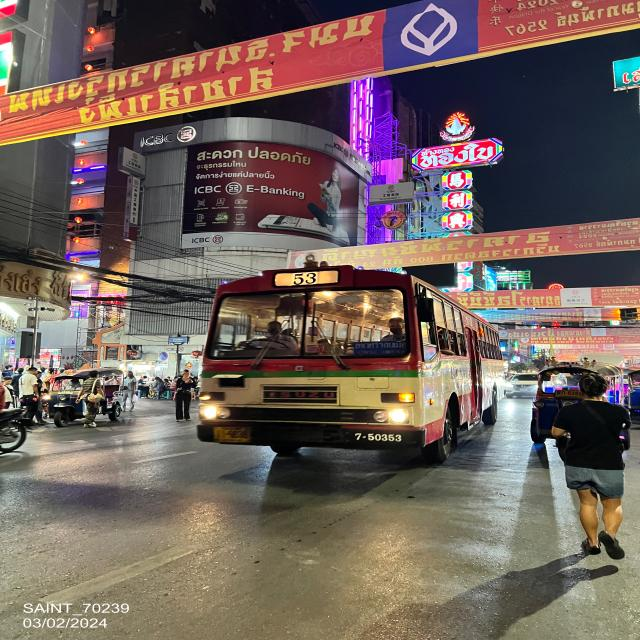BMTA-bus: (194, 267, 502, 464)
Bus Line Number: (286, 271, 323, 287)
Bus Side Number: (350, 430, 407, 442)
Destination Sign: (356, 339, 409, 356)
